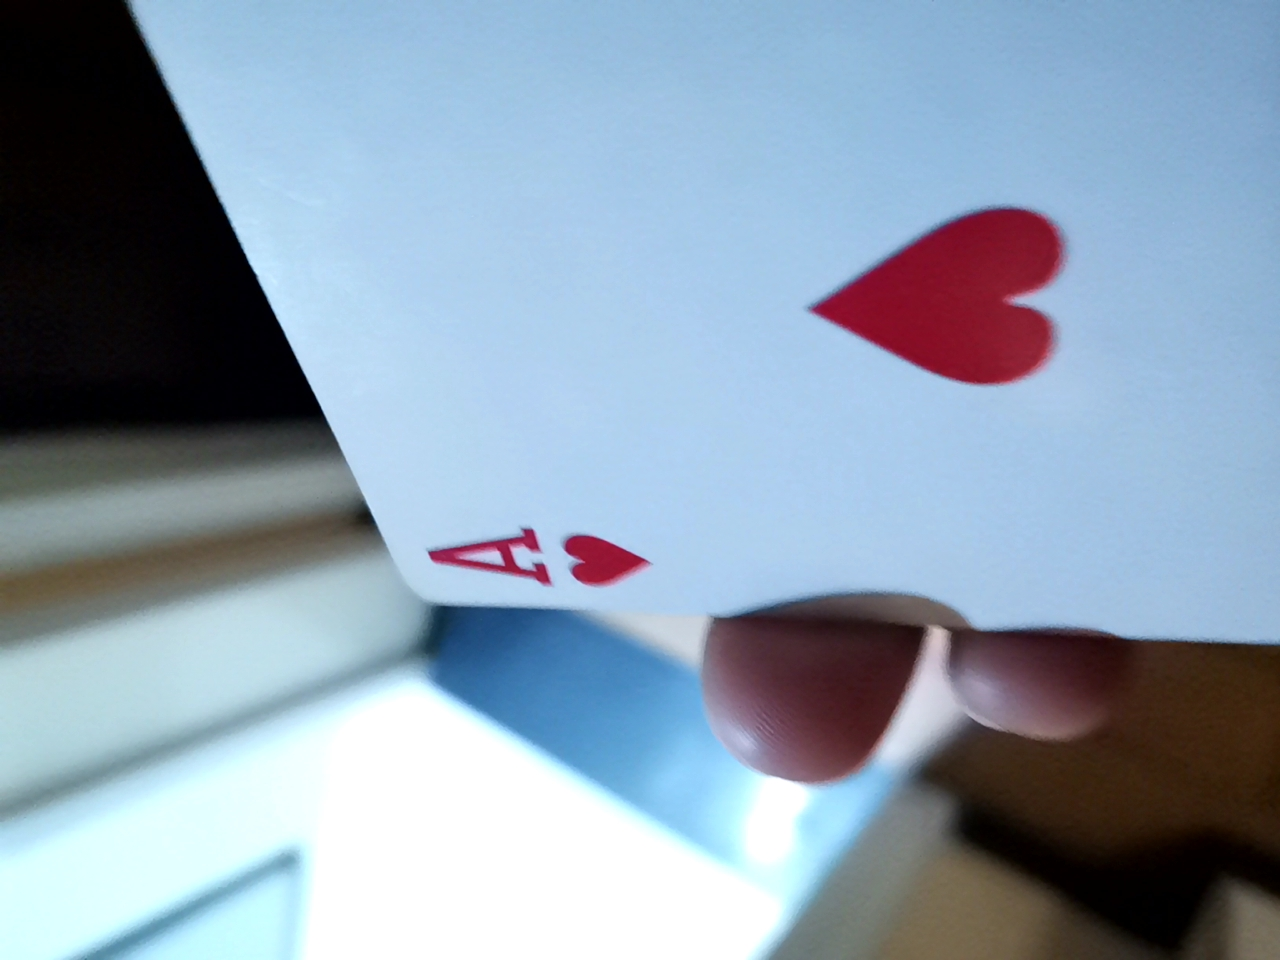hx a: (58, 13, 1262, 715)
